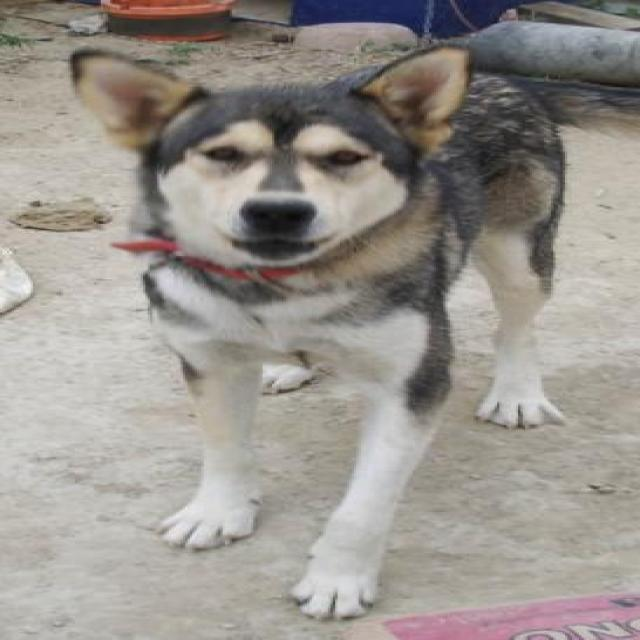Dogs: (65, 41, 638, 621)
